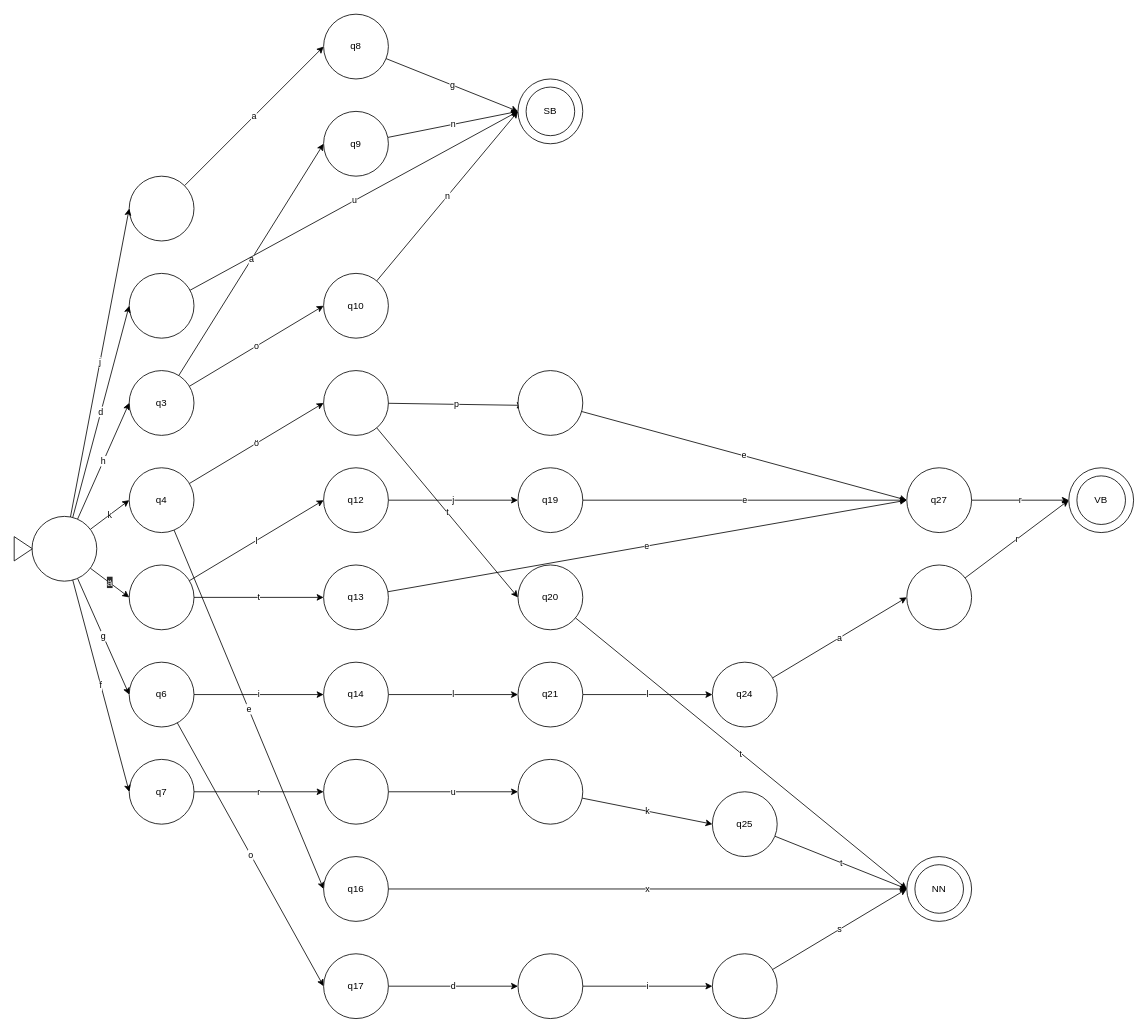
Some shapes in this 1148 by 1033 pixel diagram are drawn without their labels. Each missing label, with the centre of its shape:
q0: point (64, 548)
q1: point (161, 208)
q11: point (355, 402)
q15: point (355, 791)
q18: point (550, 402)
q2: point (161, 305)
q22: point (550, 791)
q23: point (550, 986)
q26: point (744, 986)
q28: point (939, 597)
q5: point (161, 597)
